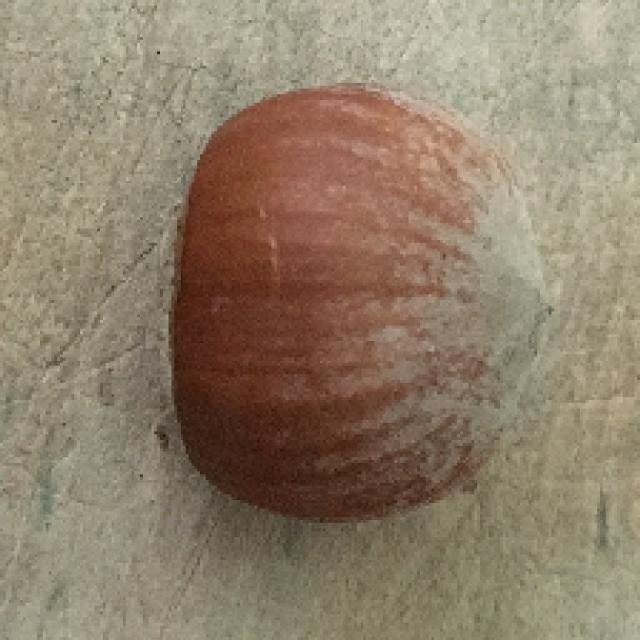QualityHazelnut: (155, 82, 551, 523)
